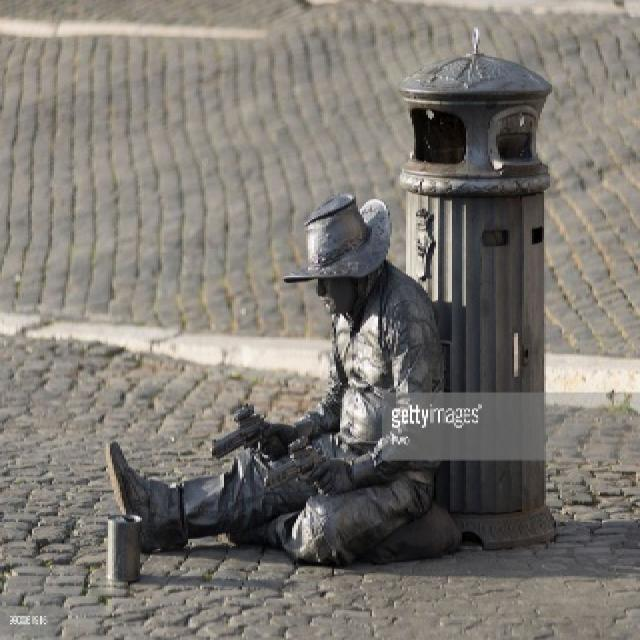weapon: (210, 398, 282, 461)
